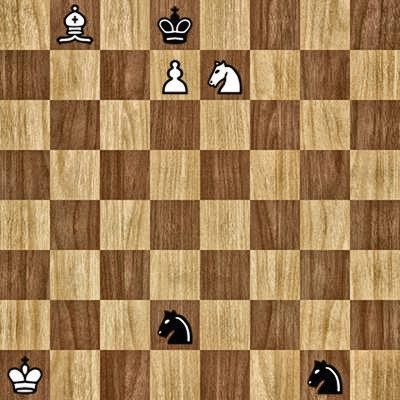black-king: (150, 0, 200, 50)
black-knight: (150, 300, 200, 350), (300, 350, 350, 400)
white-bishop: (50, 0, 100, 50)
white-king: (0, 350, 50, 400)
white-knight: (200, 50, 250, 100)
white-pawn: (150, 50, 200, 100)
